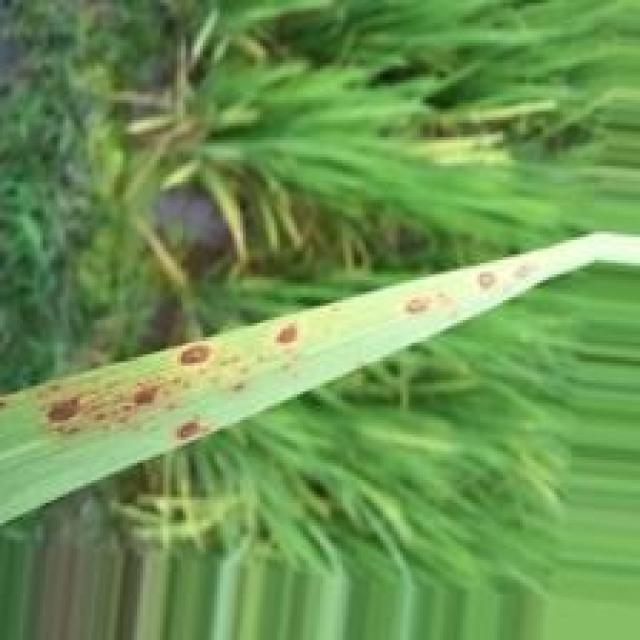Brown_Spot: (44, 394, 93, 431), (130, 380, 172, 407), (176, 342, 223, 365), (175, 417, 217, 442), (270, 320, 301, 348), (401, 293, 438, 316), (474, 266, 500, 293)
